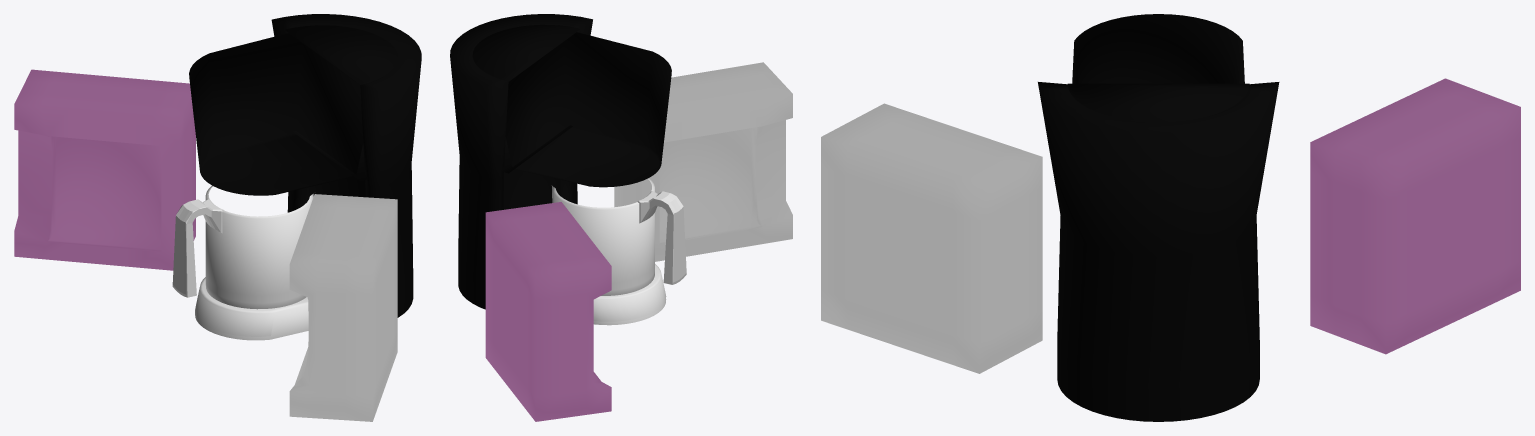
File: kaffemaskinen_medOgUden_Iso_09Anim.glb
3 renders of one model, left to right at view 1: azimuth 30°, elevation 25°; view 2: azimuth 150°, elevation 25°; view 3: azimuth 270°, elevation 25°, orthographic. The views are drawn at different scales.
Parts seen in each view (by area): view 1: Termovar.001, SoelvTop.001, Termovar, Mamskine.001, Glaskande.001, Sorthank.001, Soelbund.002, Soelbund.001, Soelvkant.001; view 2: Termovar, Termovar.001, SoelvTop.001, Mamskine.001, Glaskande.001, Sorthank.001, Soelbund.001, Soelbund.002, Soelvkant.001; view 3: Mamskine.001, Termovar, Termovar.001, SoelvTop.001.
Part boxes in pixels (x1,y1,x2,y2): Termovar.001: (14, 69, 195, 270); SoelvTop.001: (189, 33, 363, 195); Termovar: (289, 194, 397, 421); Mamskine.001: (271, 14, 421, 317); Glaskande.001: (205, 185, 313, 309); Sorthank.001: (172, 199, 224, 297); Soelbund.002: (195, 277, 308, 340); Soelbund.001: (195, 288, 274, 336); Soelvkant.001: (205, 272, 300, 303); Termovar: (614, 62, 792, 261); Termovar.001: (485, 202, 611, 421); SoelvTop.001: (505, 32, 671, 187); Mamskine.001: (450, 14, 592, 309); Glaskande.001: (552, 178, 654, 295); Sorthank.001: (637, 191, 686, 284); Soelbund.001: (593, 275, 666, 321); Soelbund.002: (593, 264, 666, 325); Soelvkant.001: (611, 263, 654, 289); Mamskine.001: (1038, 82, 1279, 421); Termovar: (821, 103, 1042, 373); Termovar.001: (1310, 78, 1520, 354); SoelvTop.001: (1072, 14, 1244, 83).
Bounding box in the file's own units: 3.78 × 3.19 × 6.91.
Materials: 3 (3 with a texture image).
